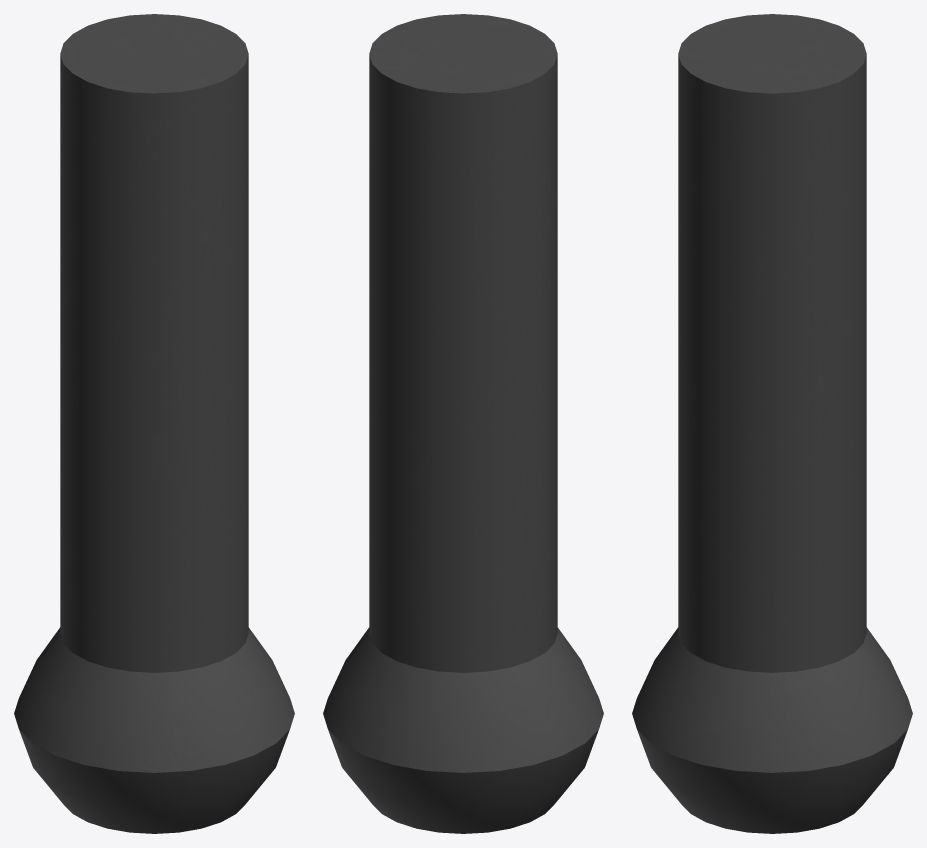
File: Pestle.glb
3 views of the same model, side by side, from view 1: azimuth 30°, elevation 25°; view 2: azimuth 150°, elevation 25°; view 3: azimuth 270°, elevation 25° (orthographic).
Visible parts, largest first — view 1: Cylinder; view 2: Cylinder; view 3: Cylinder.
Part boxes in pixels (x1,y1,x2,y2): Cylinder: (14, 14, 294, 833); Cylinder: (323, 14, 603, 833); Cylinder: (632, 14, 912, 833).
Size of the model in its own units: 0.0447 by 0.1324 by 0.0447.
1 material, 1 textured.
